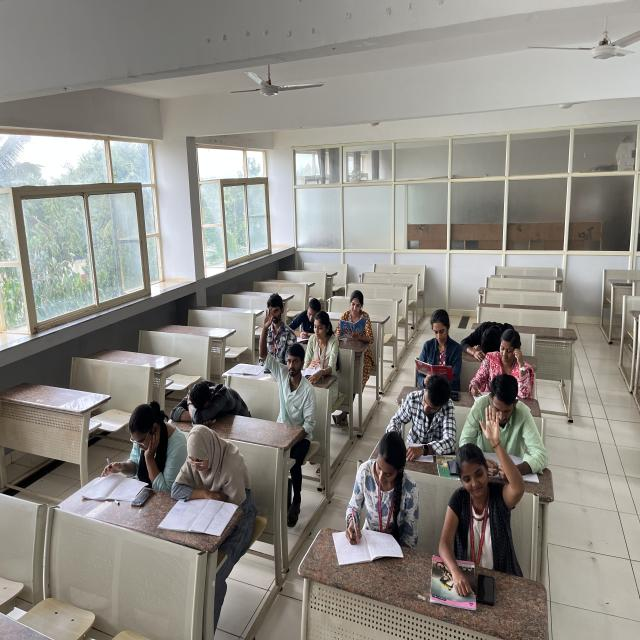Hand Rising: (439, 401, 524, 596), (246, 300, 315, 456)
Reading: (167, 424, 244, 544), (105, 400, 177, 500), (410, 304, 462, 381), (330, 284, 376, 353), (303, 317, 338, 374)
Sleeping: (166, 363, 244, 425), (458, 306, 522, 357)
Writing: (330, 416, 421, 562)
